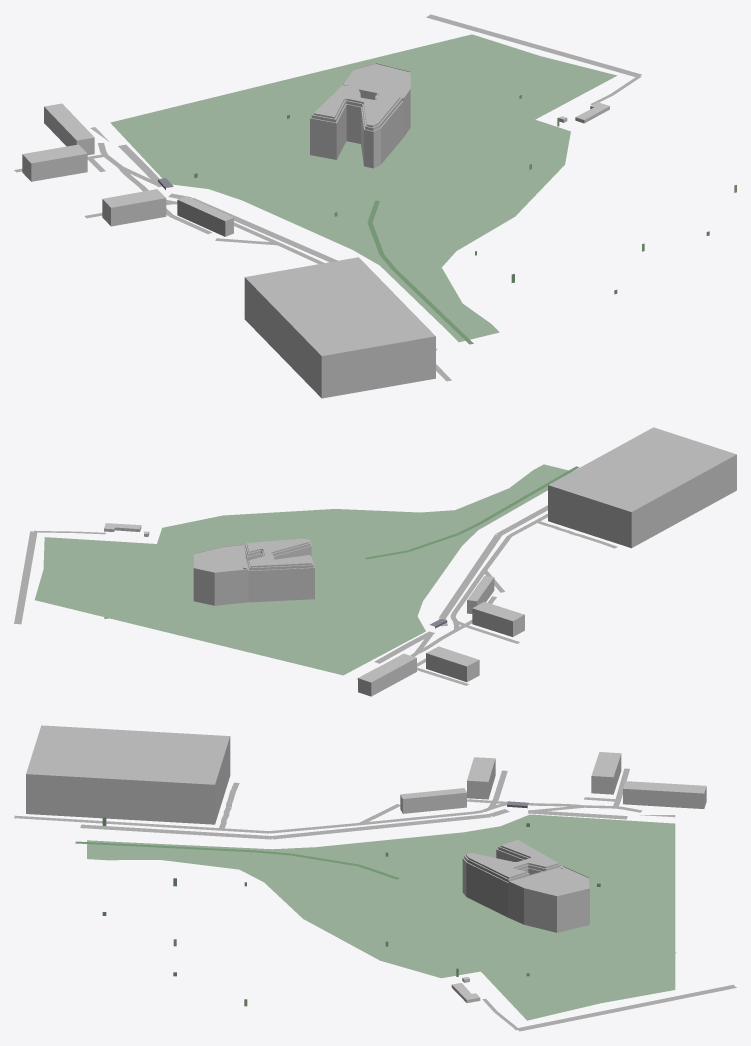
3 renders of one model, top to bottom at view 1: azimuth 30°, elevation 25°; view 2: azimuth 150°, elevation 25°; view 3: azimuth 270°, elevation 25°, orthographic. The views are drawn at different scales.
Size of the model in its own units: 531 by 39.92 by 614.
